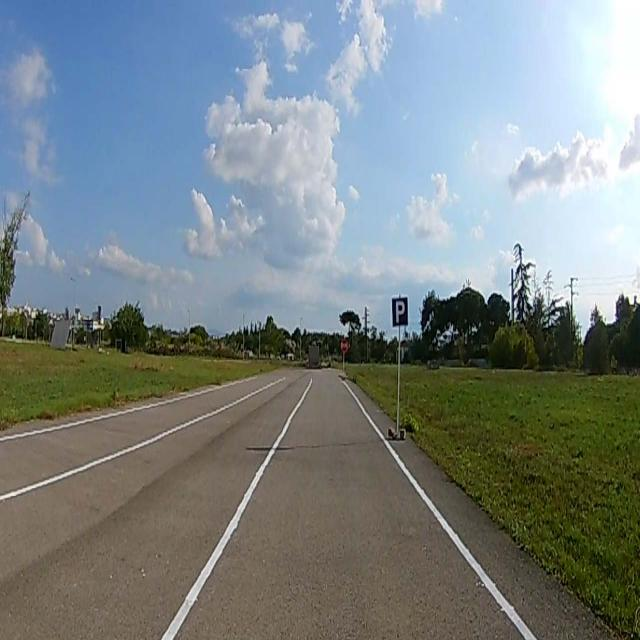park: (391, 297, 407, 325)
